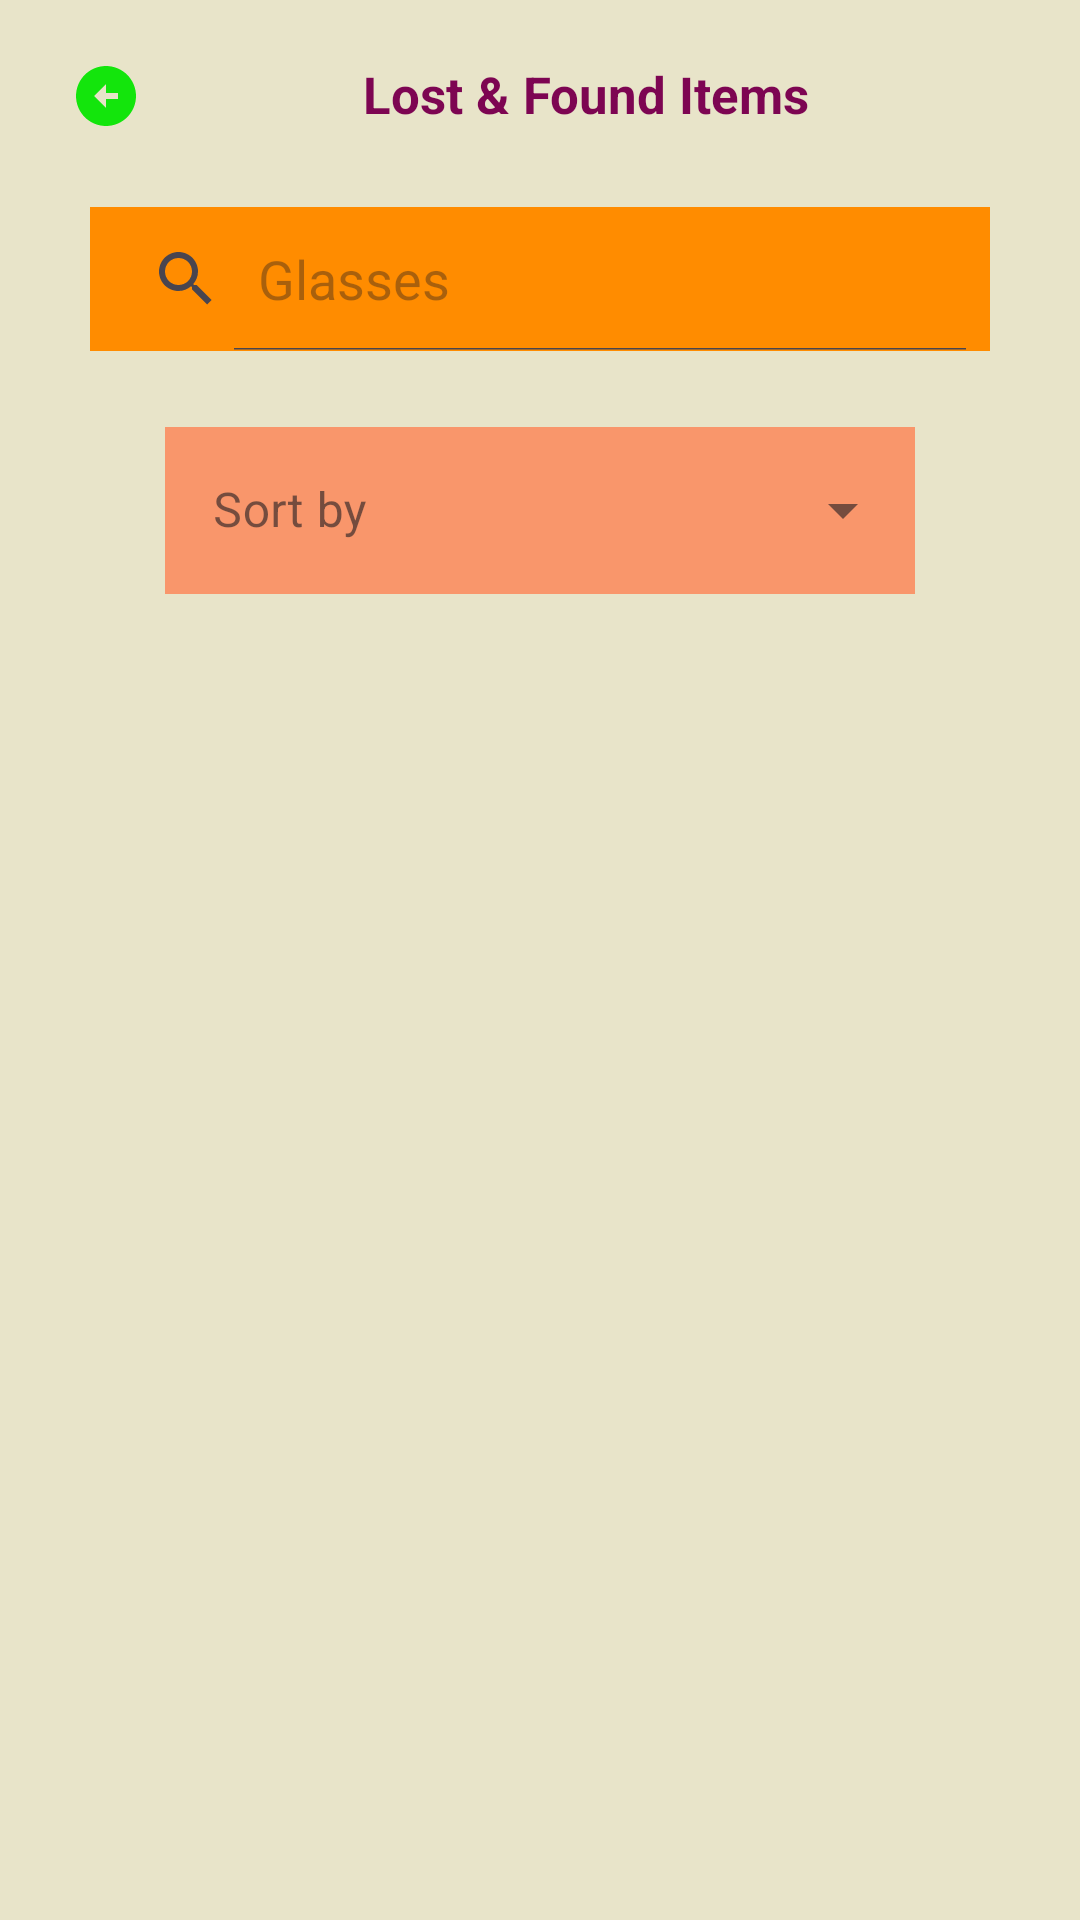

Point at icon controls on the screen. Image size 1080x1920, points as (x=x, y=y).
arrow circle left: (x=106, y=96)
